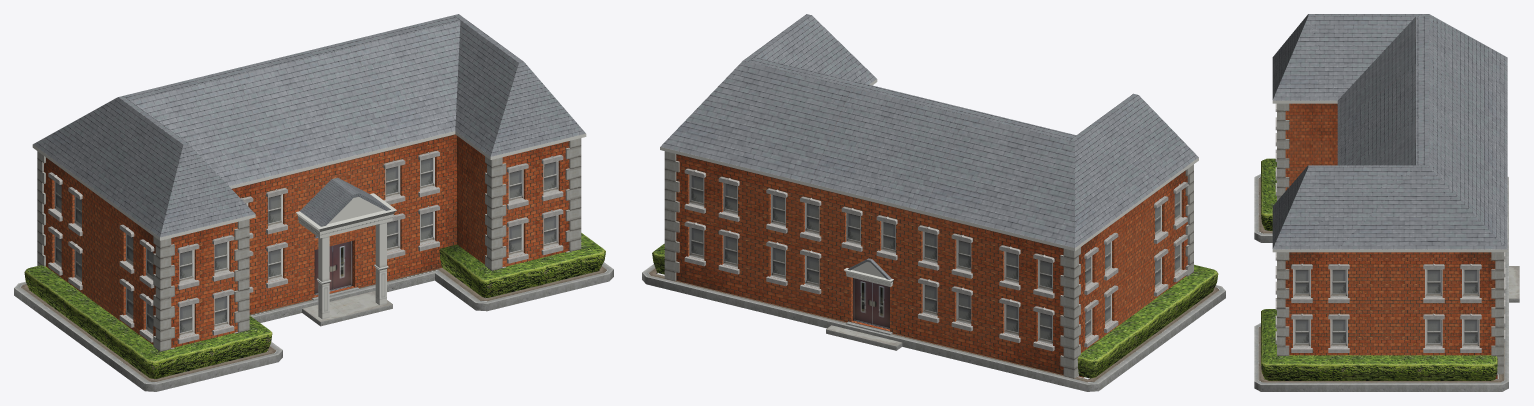
The model's file is school.dae.
3 renders of one model, left to right at view 1: azimuth 30°, elevation 25°; view 2: azimuth 150°, elevation 25°; view 3: azimuth 270°, elevation 25°, orthographic. The views are drawn at different scales.
Parts seen in each view (by area): view 1: School; view 2: School; view 3: School.
Part boxes in pixels (x1,y1,x2,y2): School: (14, 14, 613, 391); School: (642, 14, 1225, 391); School: (1254, 14, 1519, 391).
Size of the model in its own units: 1300 by 690 by 561.
